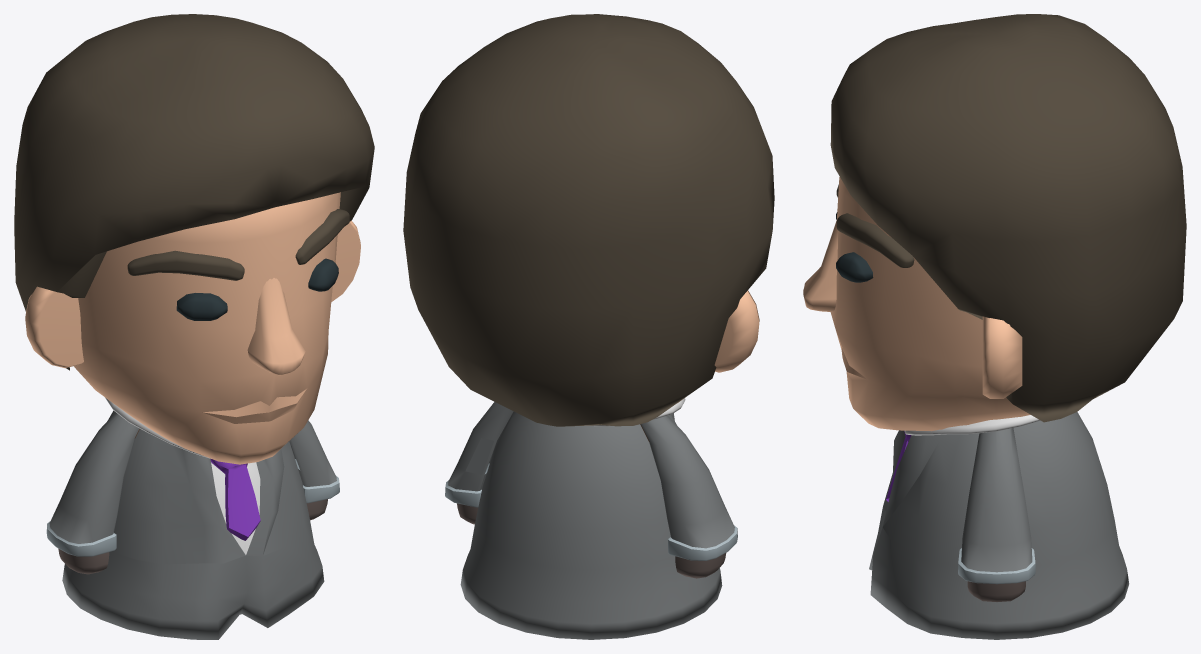
Rendered from guglielmo_character_base.fbx.
3 views of the same model, side by side, from view 1: azimuth 30°, elevation 25°; view 2: azimuth 150°, elevation 25°; view 3: azimuth 270°, elevation 25° (orthographic).
Visible parts, largest first — view 1: character_willHair, character_willHead, character_willBody, character_willArmRight, character_willArmLeft; view 2: character_willHair, character_willBody, character_willArmRight, character_willArmLeft, character_willHead; view 3: character_willHair, character_willBody, character_willHead, character_willArmLeft.
Boxes of the visible parts, x1,y1,x2,y2 form: character_willHair: [14, 14, 374, 370]; character_willHead: [25, 192, 360, 464]; character_willBody: [62, 397, 324, 639]; character_willArmRight: [46, 412, 139, 574]; character_willArmLeft: [289, 420, 339, 520]; character_willHair: [403, 14, 774, 426]; character_willBody: [460, 398, 722, 639]; character_willArmRight: [640, 415, 737, 578]; character_willArmLeft: [445, 402, 513, 524]; character_willHead: [678, 290, 759, 402]; character_willHair: [830, 14, 1186, 422]; character_willBody: [869, 412, 1129, 639]; character_willHead: [803, 177, 1030, 431]; character_willArmLeft: [958, 428, 1035, 601].
Bounding box in the file's own units: 118 × 188 × 117.
